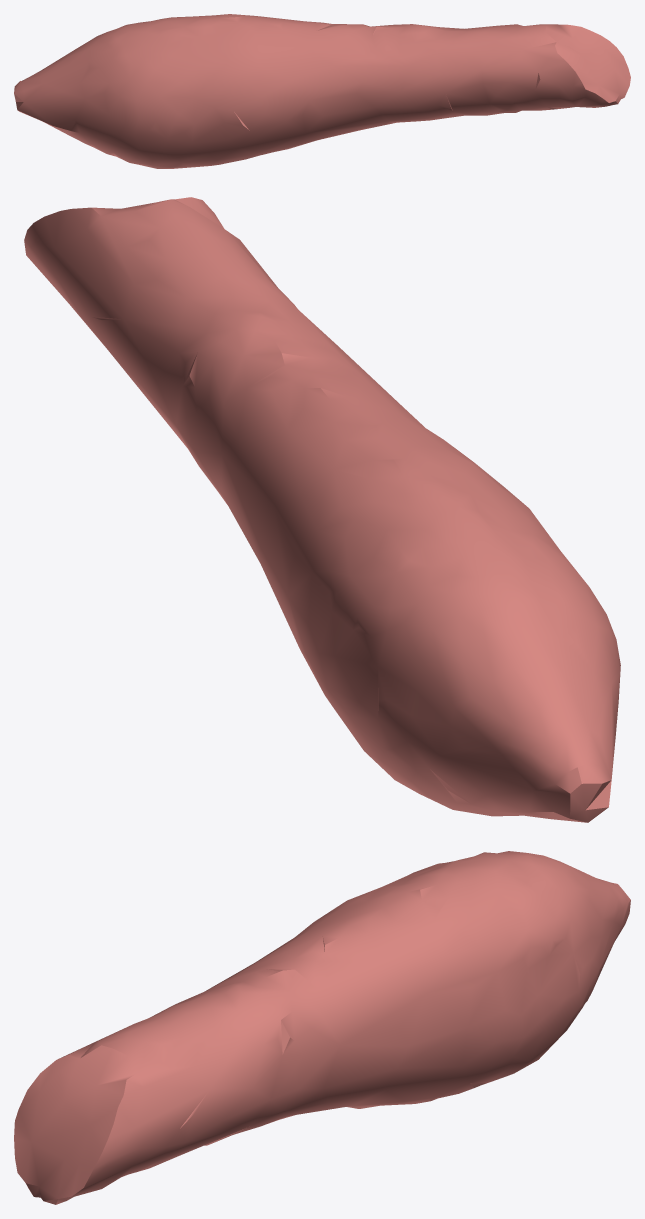
File: fma49029_mm1048m.glb
3 views of the same model, one above another, from view 1: azimuth 30°, elevation 25°; view 2: azimuth 150°, elevation 25°; view 3: azimuth 270°, elevation 25° (orthographic). The views are drawn at different scales.
Visible parts, largest first — view 1: FMA49029_MM1048M; view 2: FMA49029_MM1048M; view 3: FMA49029_MM1048M.
Boxes of the visible parts, x1,y1,x2,y2 form: FMA49029_MM1048M: [14, 14, 630, 168]; FMA49029_MM1048M: [24, 197, 620, 822]; FMA49029_MM1048M: [14, 851, 630, 1204].
Bounding box in the file's own units: 0.00232 × 0.00073 × 0.00171.
